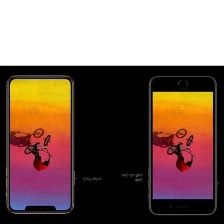phone: (2, 71, 77, 217), (145, 72, 219, 219)
